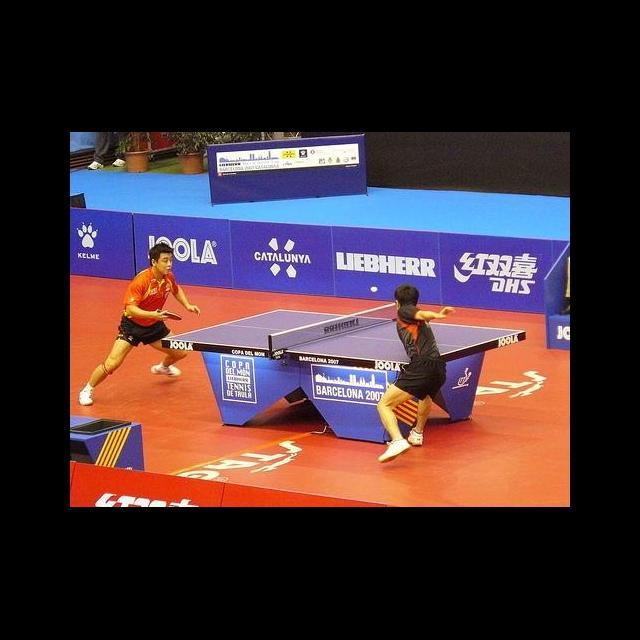ping-pong-ball: (370, 286, 378, 292)
